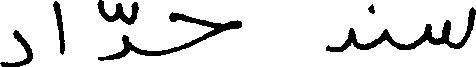X: (172, 7, 240, 57), (427, 2, 475, 53), (101, 0, 129, 65), (0, 25, 29, 66), (331, 23, 354, 56), (55, 0, 63, 59), (384, 24, 388, 46)
